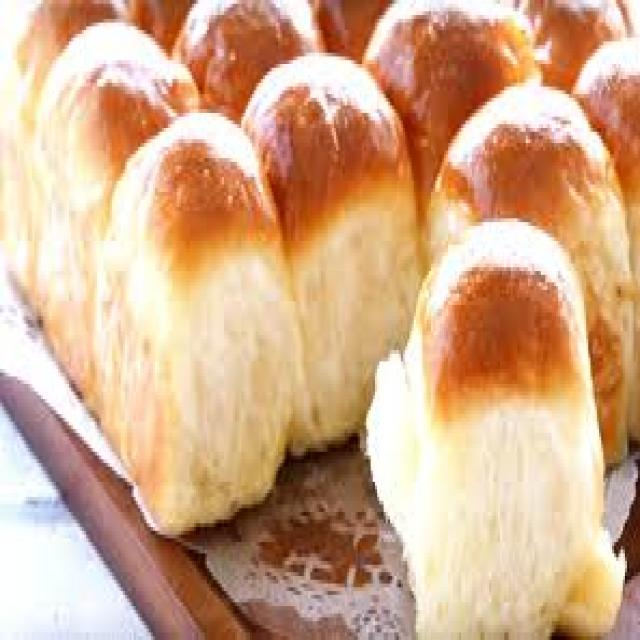organic waste: (0, 0, 265, 410), (366, 215, 618, 636), (420, 79, 632, 501), (101, 109, 287, 535), (241, 49, 416, 452), (360, 0, 543, 237), (155, 0, 465, 90), (573, 34, 638, 376), (517, 0, 638, 87)
